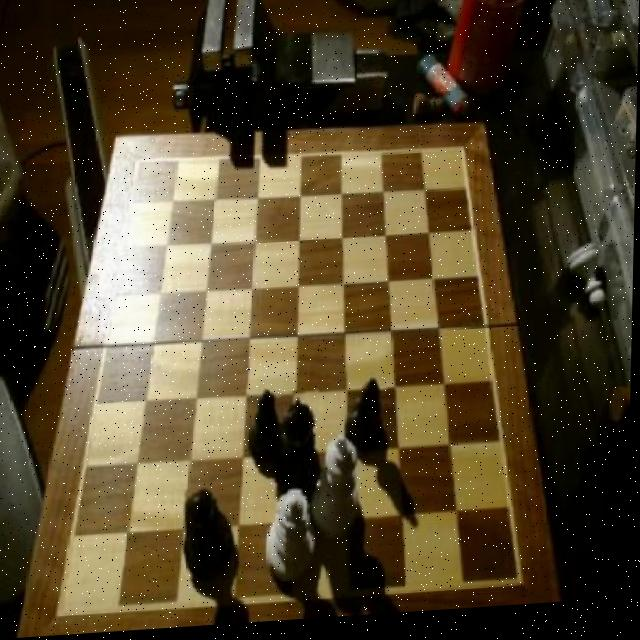bishop: (344, 373, 388, 463), (246, 389, 286, 474)
black-bishop: (276, 392, 325, 504)
black-pawn: (184, 488, 234, 582)
white-bishop: (312, 439, 366, 543)
white-pawn: (264, 485, 317, 586)
